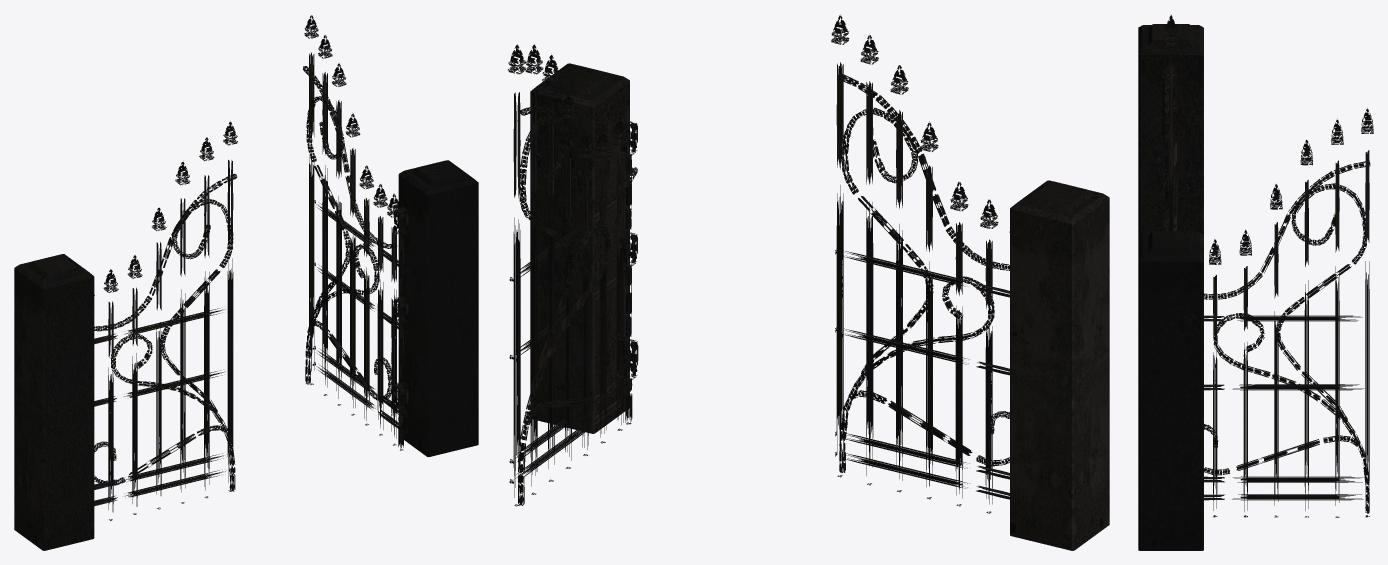
Rendered from mez_kapi.fbx.
3 views of the same model, side by side, from view 1: azimuth 30°, elevation 25°; view 2: azimuth 150°, elevation 25°; view 3: azimuth 270°, elevation 25° (orthographic). The views are drawn at different scales.
Parts seen in each view (by area): view 1: zabor_Cube.001; view 2: zabor_Cube.001; view 3: zabor_Cube.001.
Boxes of the visible parts, left/top/right/bottom form: zabor_Cube.001: left=14, top=15, right=478, bottom=550; zabor_Cube.001: left=507, top=15, right=1109, bottom=550; zabor_Cube.001: left=1138, top=15, right=1373, bottom=550.
Bounding box in the file's own units: 638 × 519 × 270.
1 material, 1 textured.
